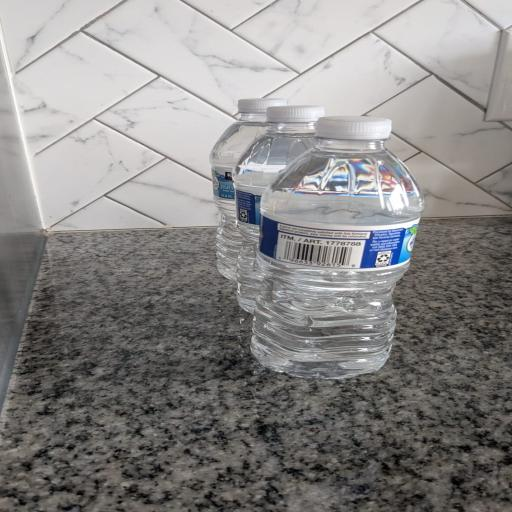waterbottle: (252, 117, 423, 378), (234, 106, 323, 312), (210, 99, 286, 279)
